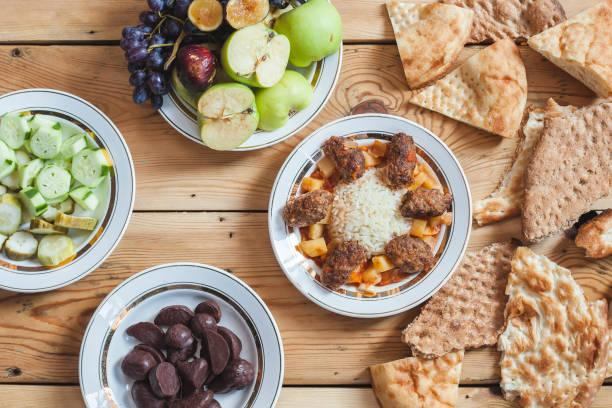Braised Crucian Carp: (269, 112, 471, 315), (74, 264, 284, 408), (149, 2, 335, 154), (0, 87, 124, 288)
